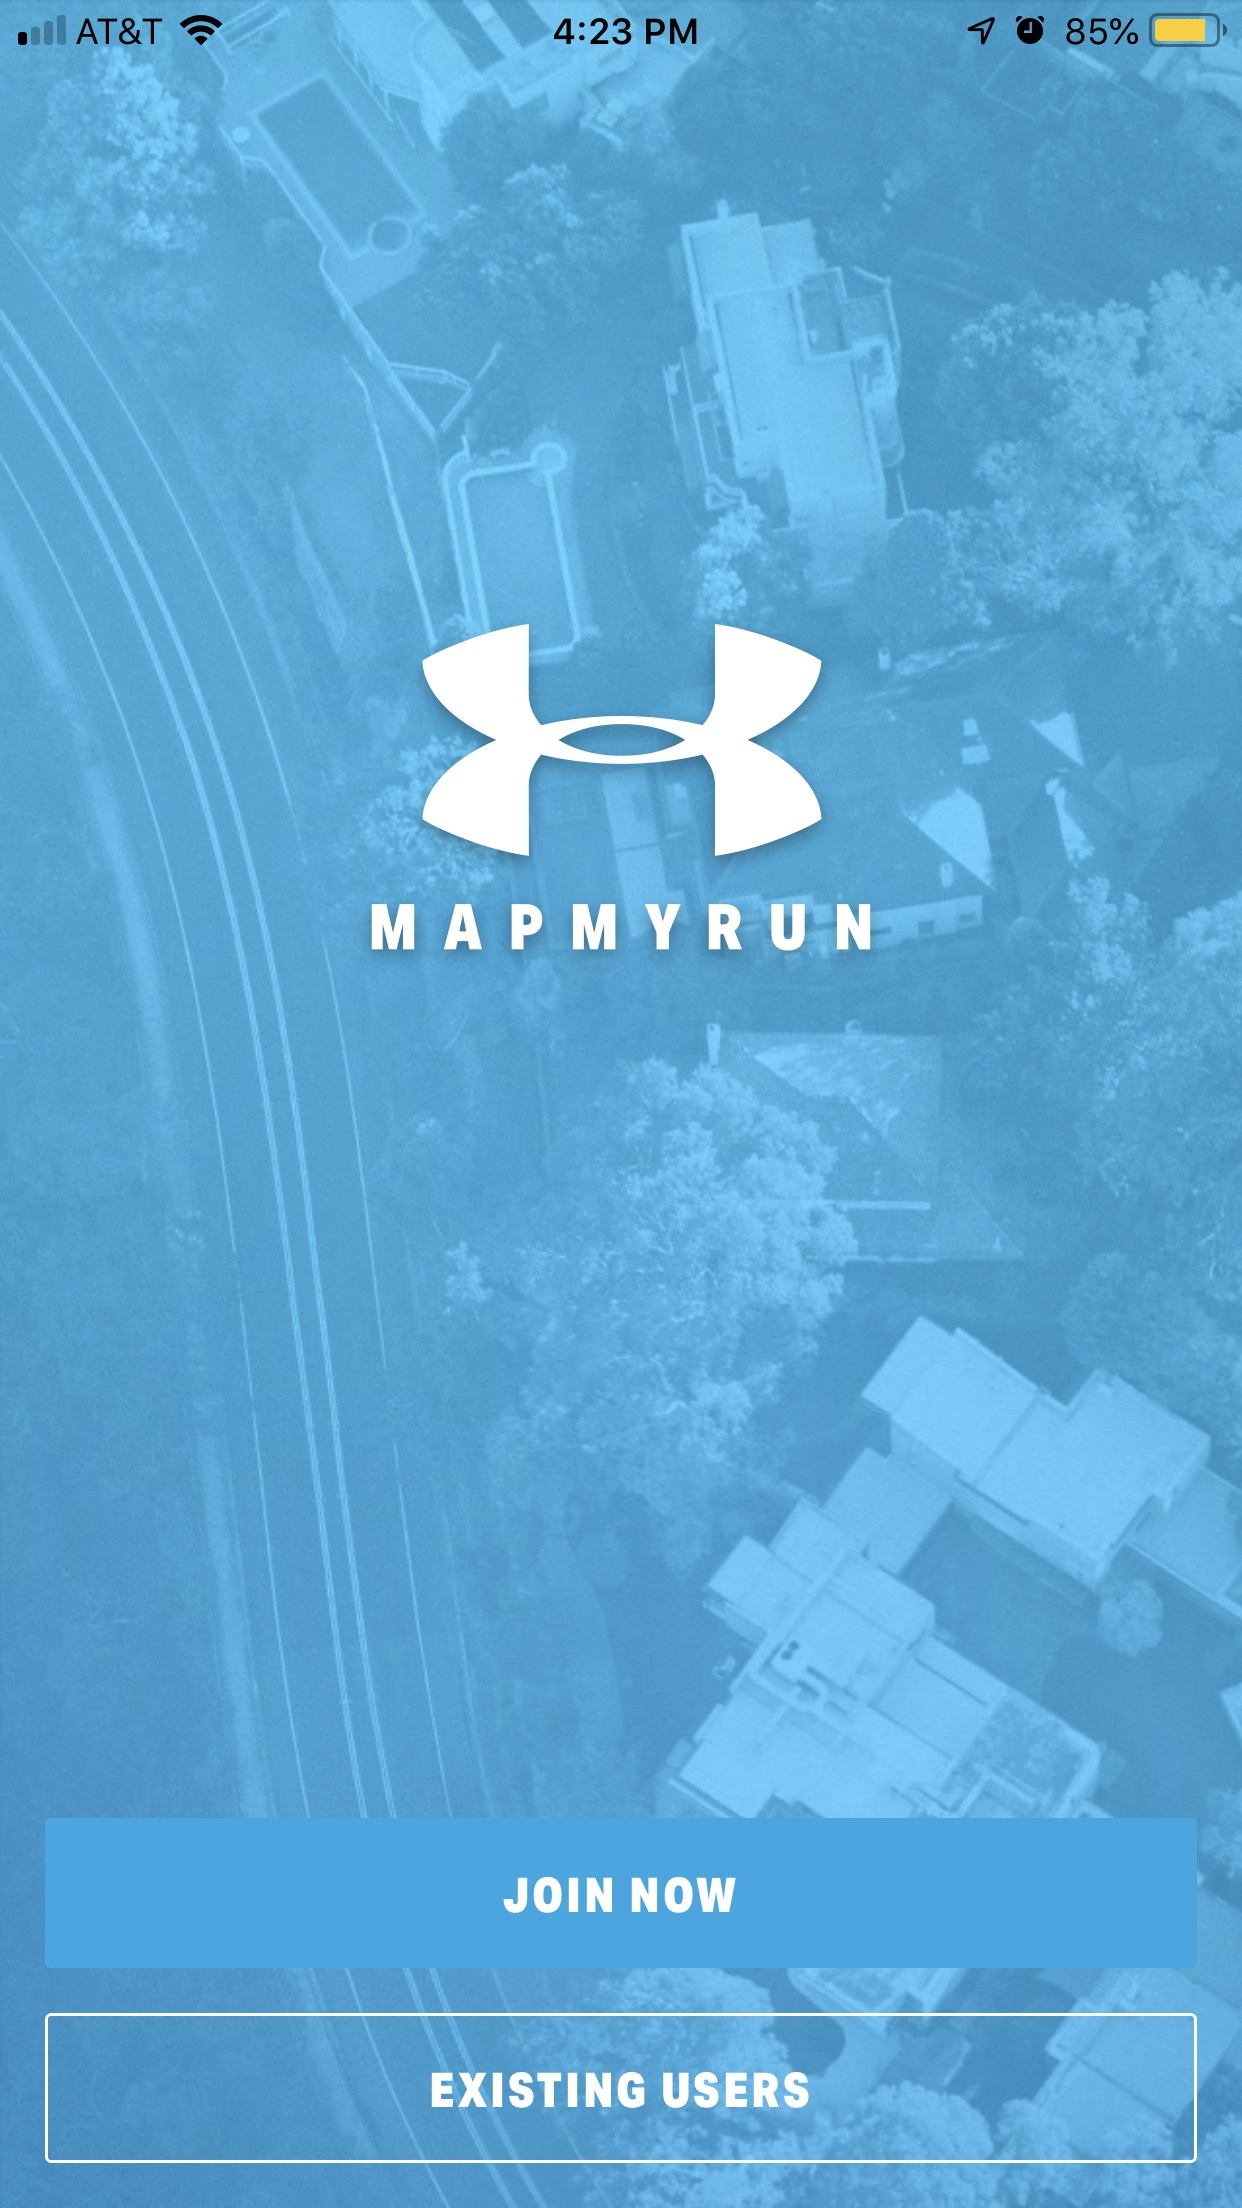BackgroundImage: (2, 2, 1242, 2208)
Image: (422, 623, 823, 857)
Text: (372, 902, 872, 951)
TextButton: (45, 1817, 1198, 1968), (45, 2012, 1198, 2164)
UpperTaskBar: (2, 2, 1242, 49)
